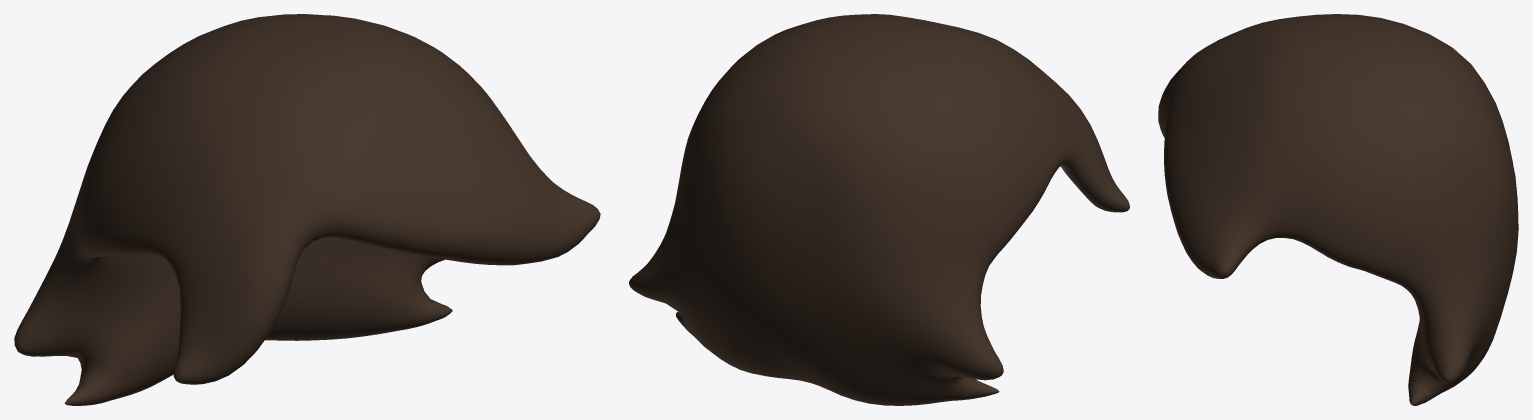
The model's file is Hair_Brown.fbx.
3 renders of one model, left to right at view 1: azimuth 30°, elevation 25°; view 2: azimuth 150°, elevation 25°; view 3: azimuth 270°, elevation 25°, orthographic. The views are drawn at different scales.
Parts seen in each view (by area): view 1: Hair_2_LOD0.mo; view 2: Hair_2_LOD0.mo; view 3: Hair_2_LOD0.mo.
Part boxes in pixels (x1,y1,x2,y2): Hair_2_LOD0.mo: (14, 14, 600, 405); Hair_2_LOD0.mo: (629, 14, 1129, 405); Hair_2_LOD0.mo: (1158, 14, 1518, 405).
Bounding box in the file's own units: 104 × 81.97 × 87.28.
